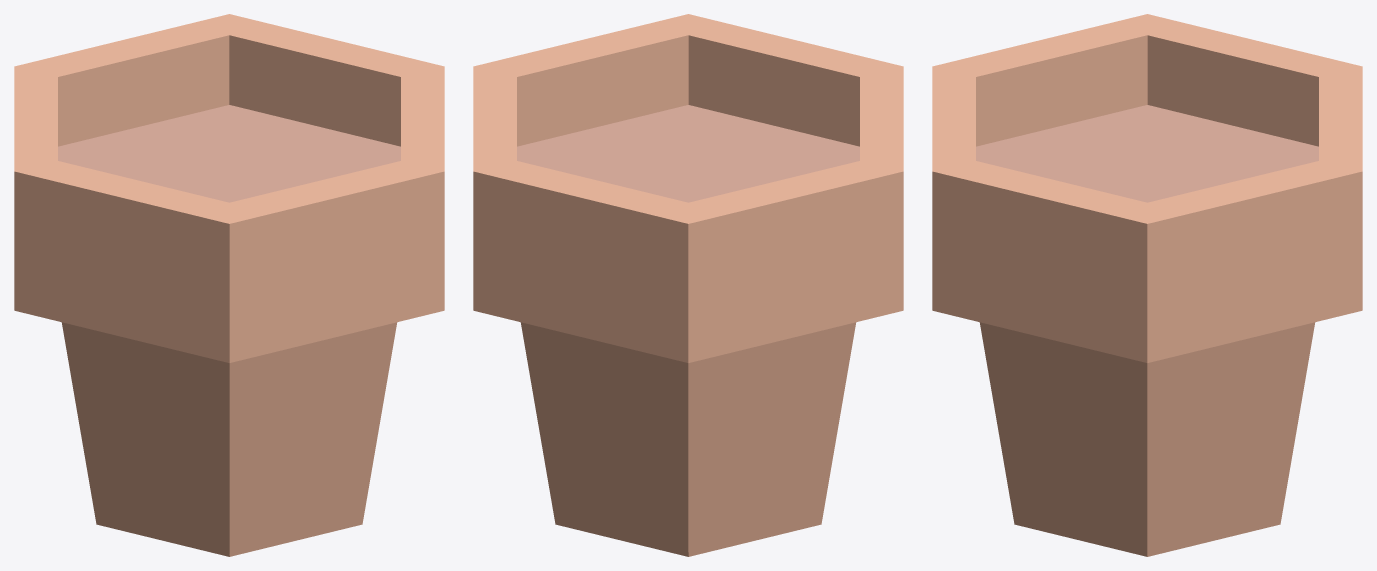
Rendered from pot_small.gltf.
3 views of the same model, side by side, from view 1: azimuth 30°, elevation 25°; view 2: azimuth 150°, elevation 25°; view 3: azimuth 270°, elevation 25° (orthographic).
Visible parts, largest first — view 1: pot_small; view 2: pot_small; view 3: pot_small.
Boxes of the visible parts, <box> form: pot_small: <box>14,14,444,556</box>; pot_small: <box>473,14,903,556</box>; pot_small: <box>932,14,1362,556</box>.
Bounding box in the file's own units: 0.3234 × 0.268 × 0.2801.
